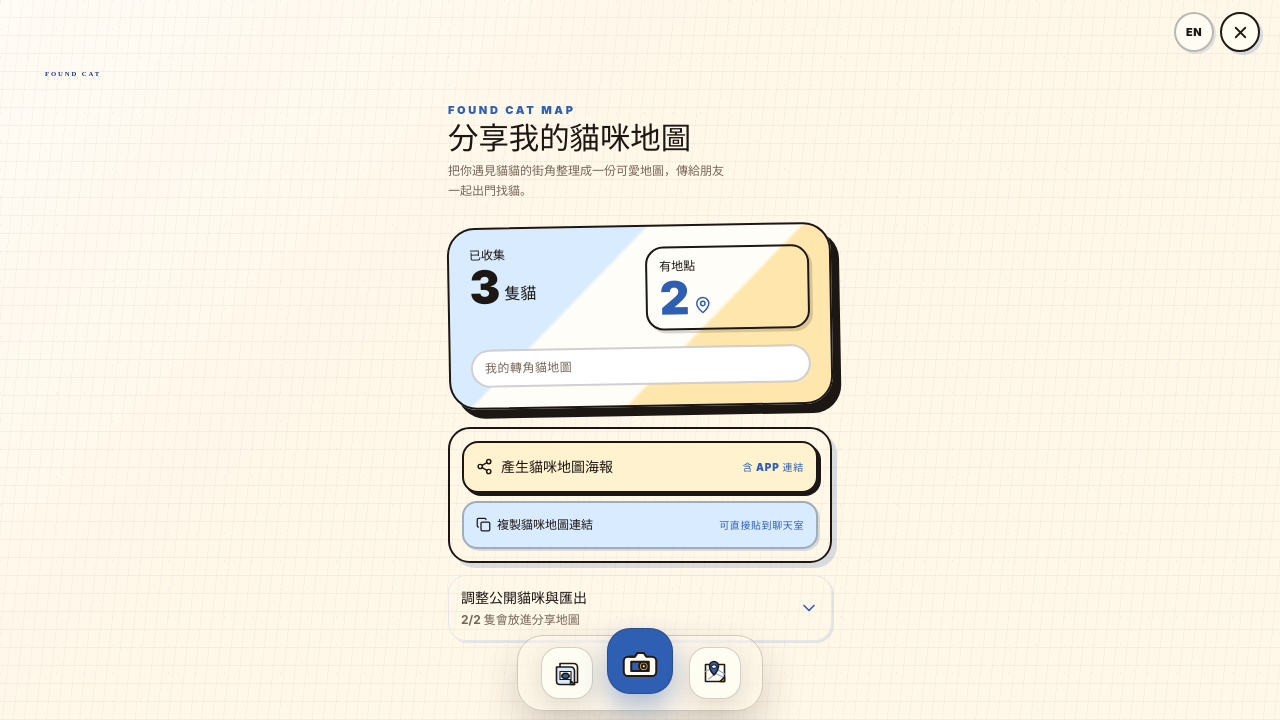
Test: ShareCatdex page › copies a direct selected cat map link for manual sharing
The image size is (1280, 720).
Click the button "調整公開貓咪與匯出 2/2 隻會放進分享地圖".
click(524, 597)  # box 448,575 -> 832,641
(page scrolled)
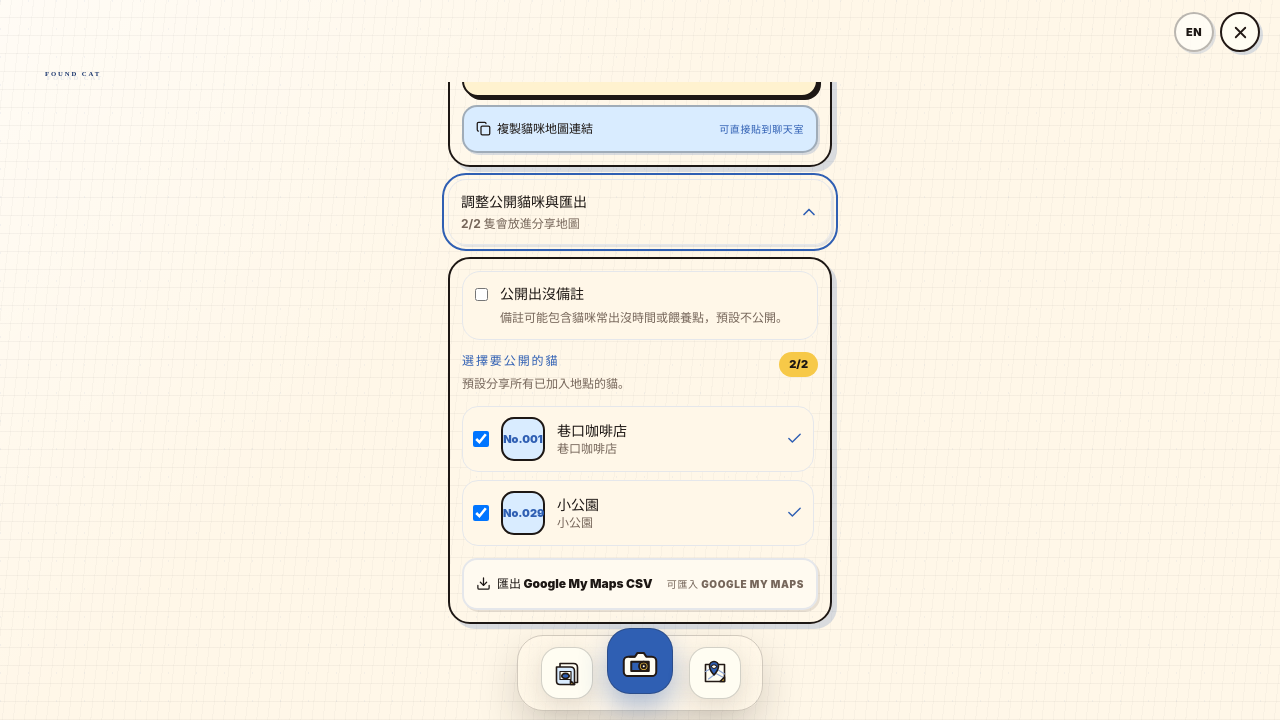
Click the checkbox named "選取 小公園".
click(481, 513)  # box 473,505 -> 489,521
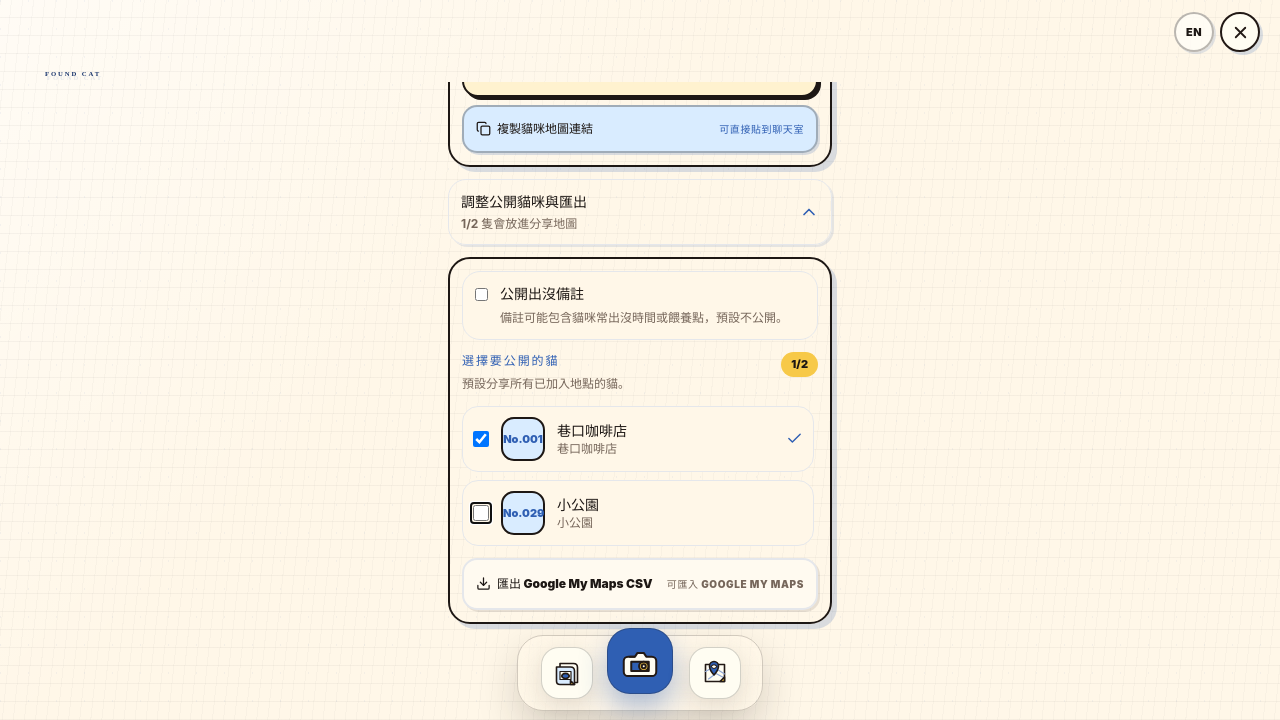
Click the button "複製貓咪地圖連結 可直接貼到聊天室".
click(545, 129)  # box 462,105 -> 818,153
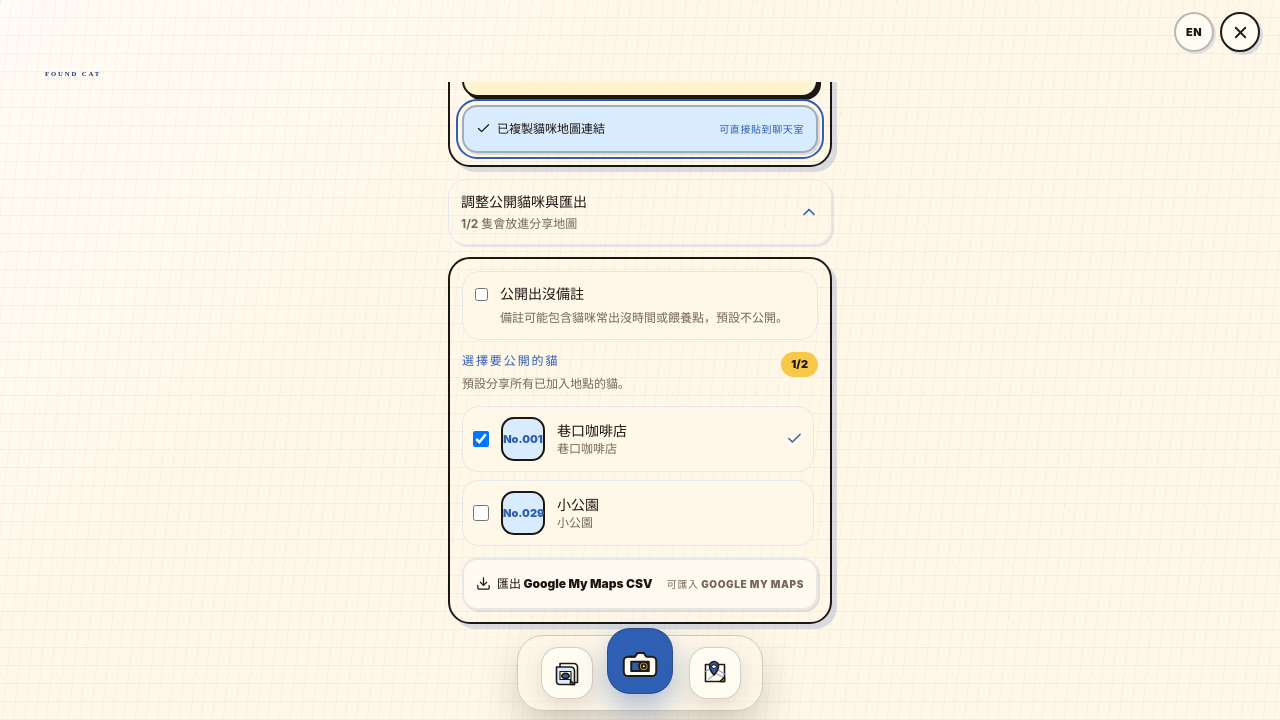
Check: the button "已複製貓咪地圖連結 可直接貼到聊天室" is shown, box 462,105 -> 818,153
